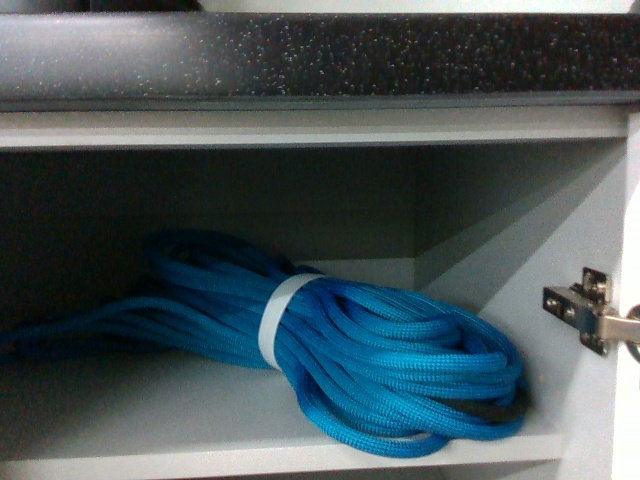rope: (148, 257, 521, 449)
